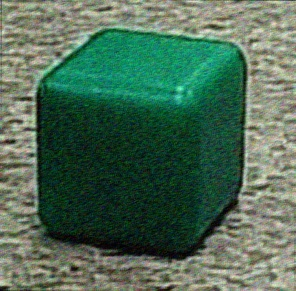green_cube: (28, 23, 253, 263)
